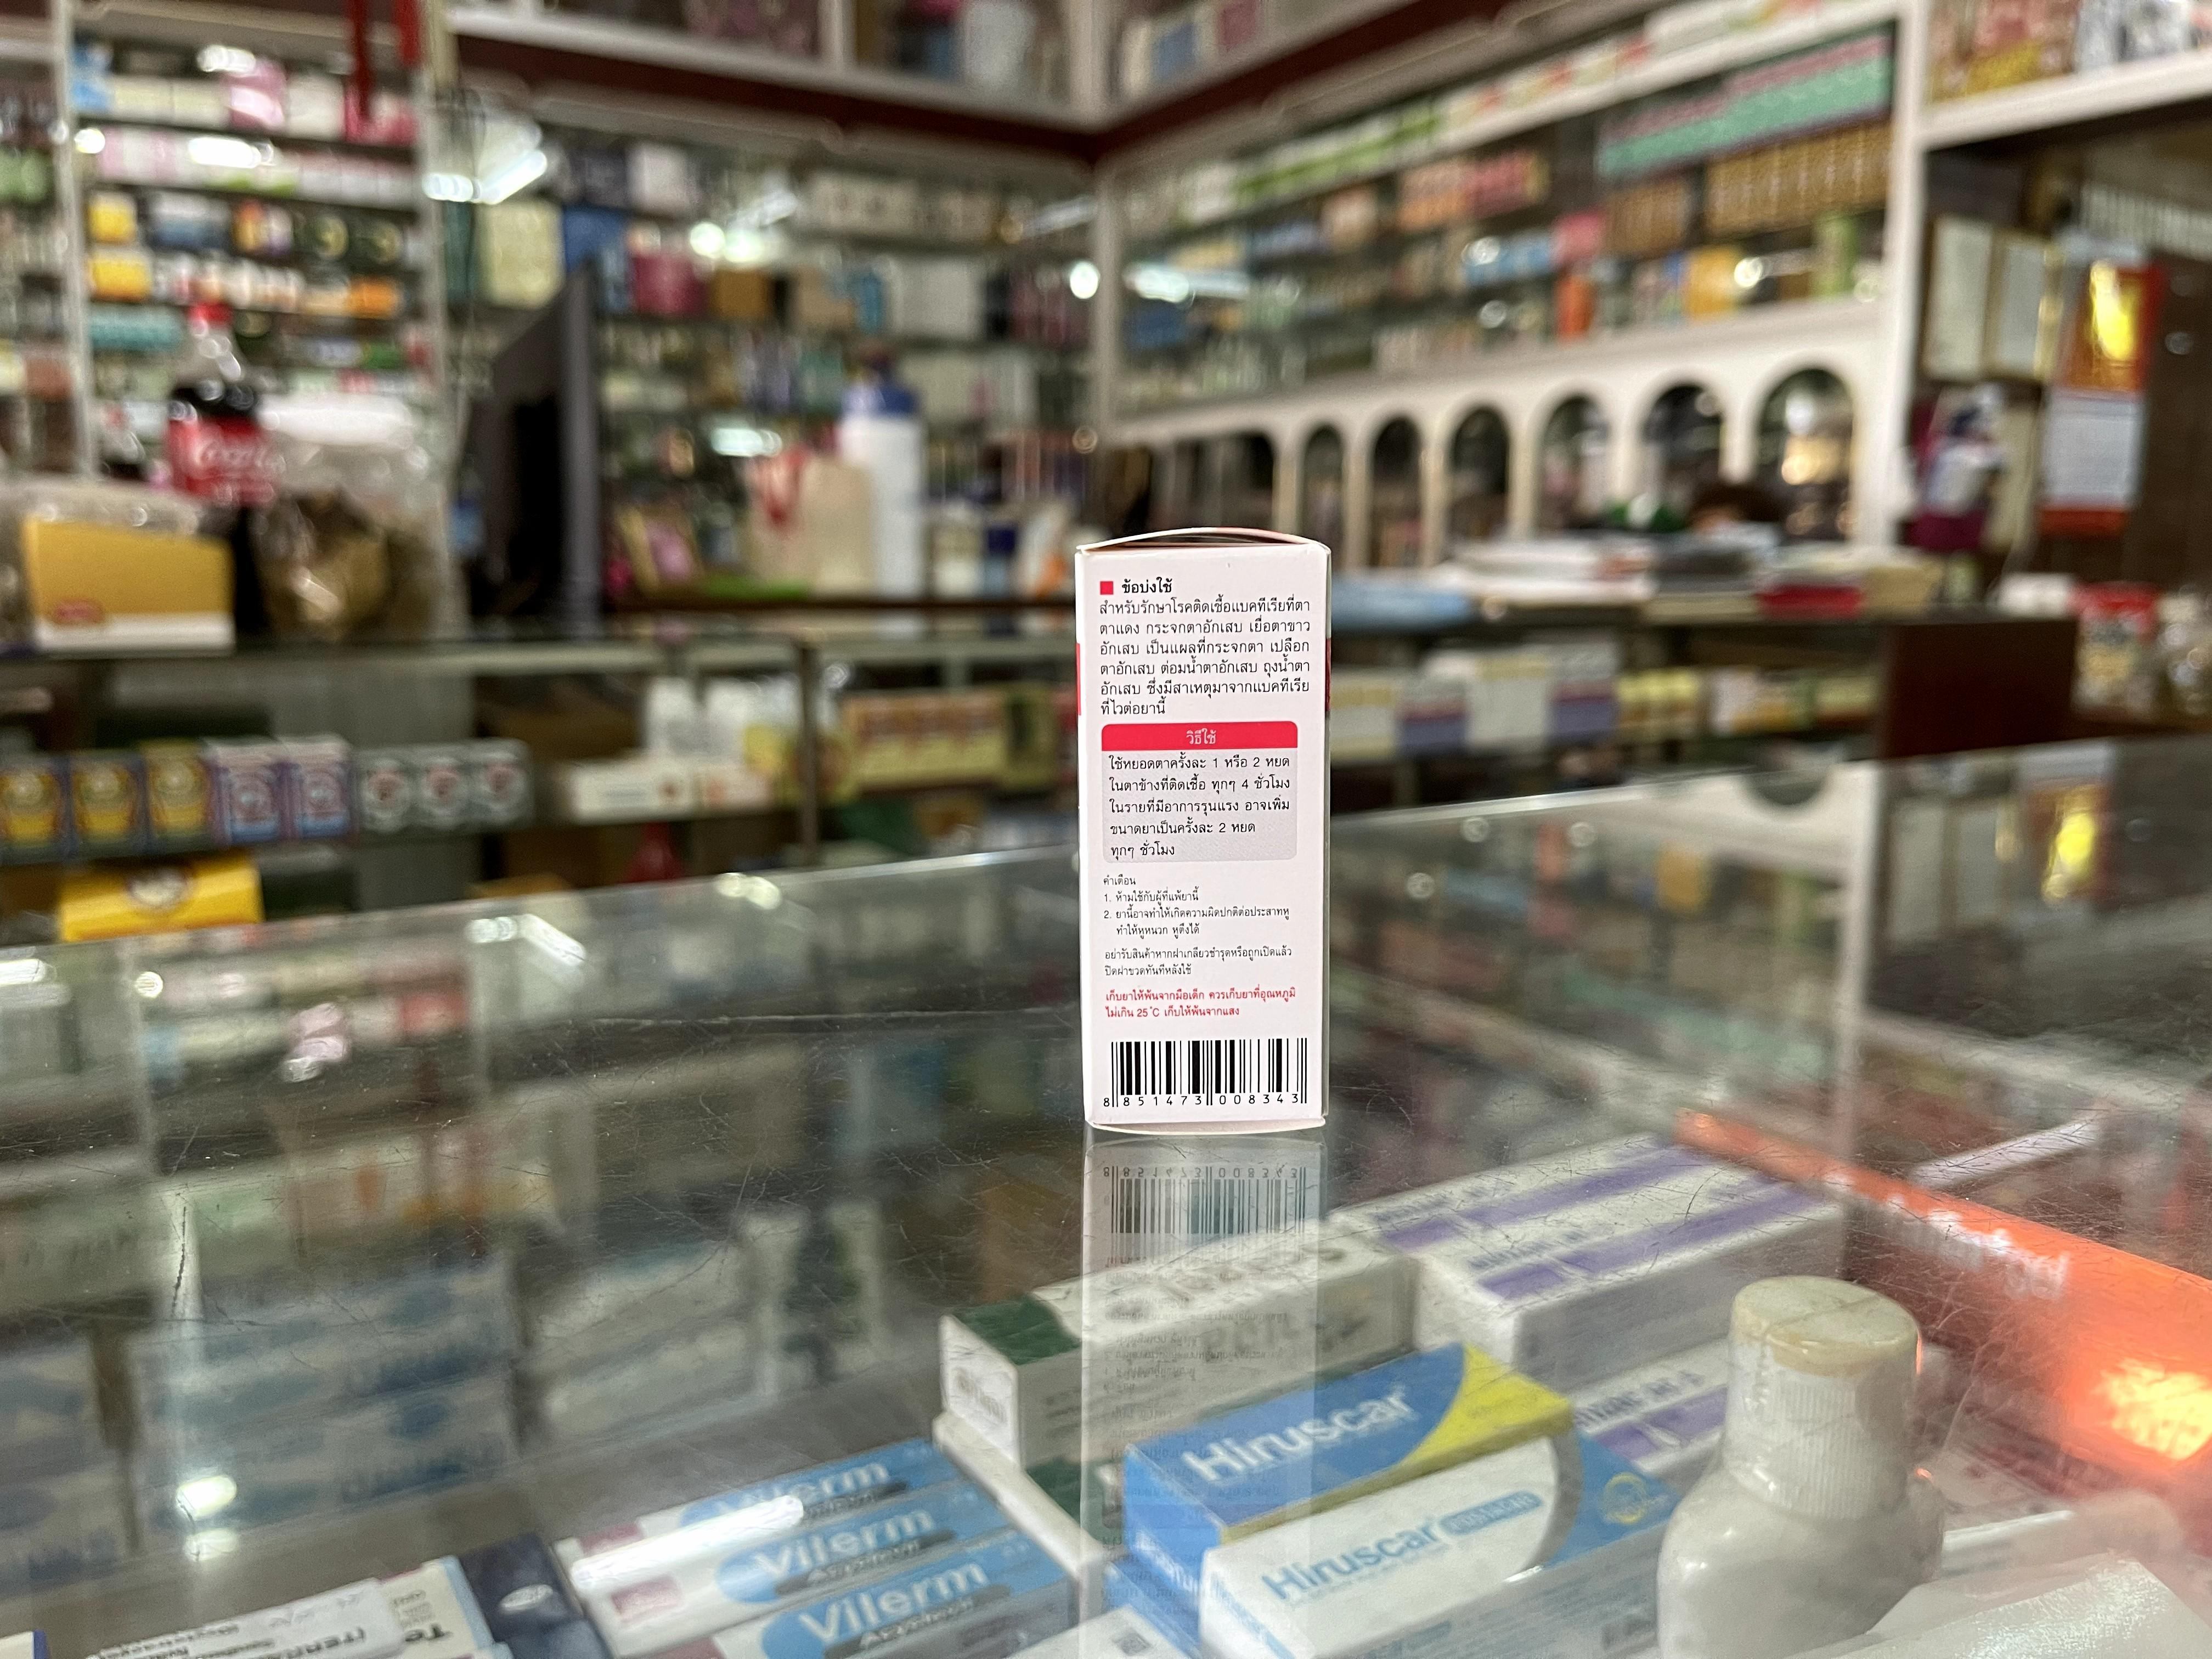Grafadex: (1078, 526, 1331, 1133)
